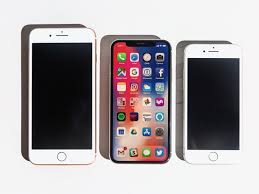iphone: (26, 27, 97, 169), (104, 36, 174, 164), (183, 41, 241, 168)
iphone6: (25, 25, 96, 167), (107, 36, 177, 164)
